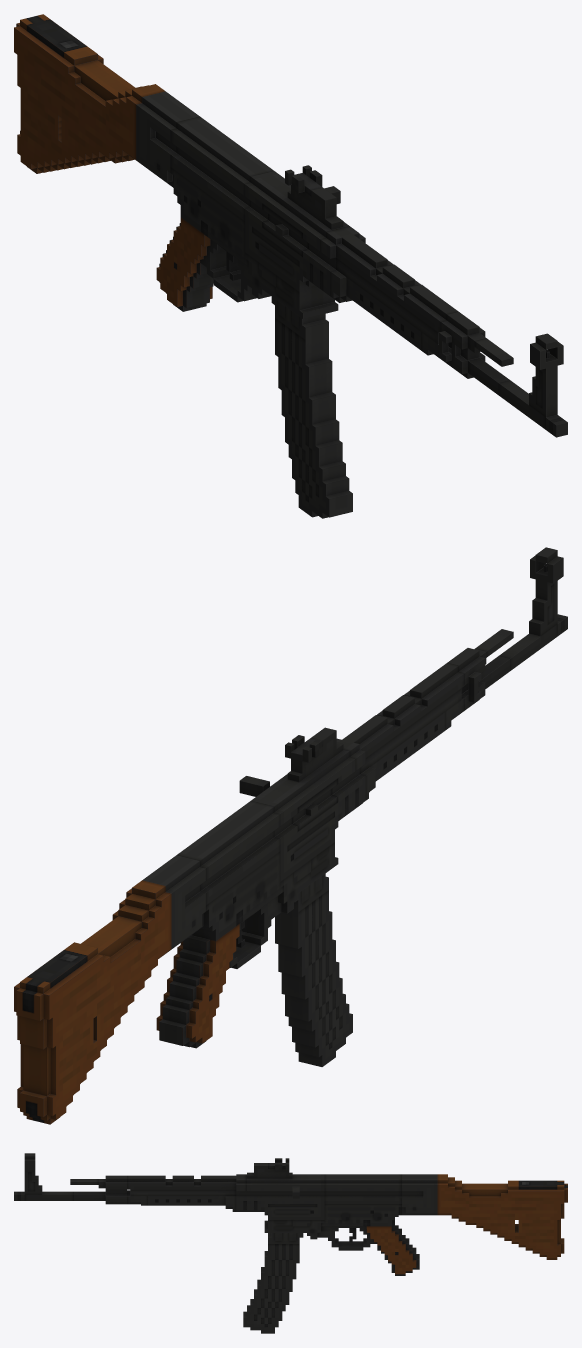
File: RD_STG44.glb
The picture shows the model from 3 angles, top to bottom: view 1: azimuth 30°, elevation 25°; view 2: azimuth 150°, elevation 25°; view 3: azimuth 270°, elevation 25°; orthographic projection. The views are drawn at different scales.
Parts seen in each view (by area): view 1: STG44, STG44_CLIP; view 2: STG44, STG44_CLIP; view 3: STG44, STG44_CLIP.
Part boxes in pixels (x1,y1,x2,y2): STG44: (14,14,567,437); STG44_CLIP: (271,296,352,518); STG44: (14,547,567,1124); STG44_CLIP: (275,873,352,1066); STG44: (14,1153,567,1275); STG44_CLIP: (243,1233,303,1333).
Bounding box in the file's own units: 0.1083 × 0.5413 × 1.55.
Materials: 1 (1 with a texture image).
